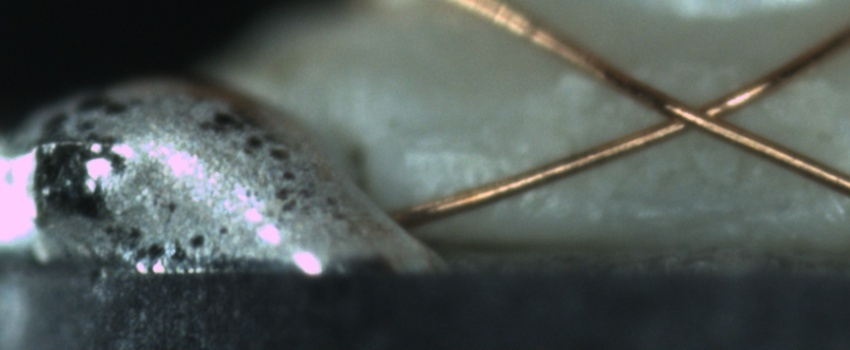CL: (625, 77, 760, 147)
DL: (408, 132, 545, 184)
